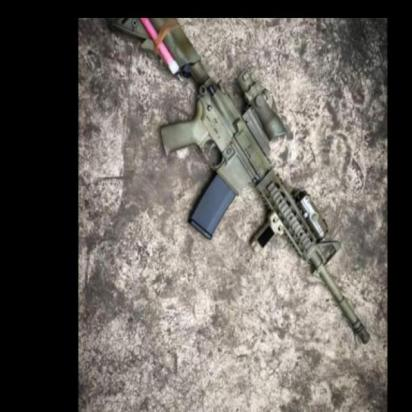Gun: (107, 16, 372, 346)
